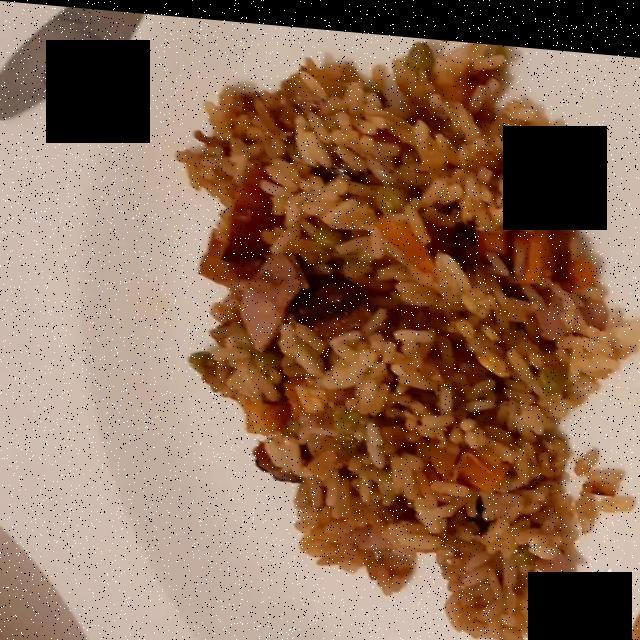fried-rice: (188, 46, 619, 632)
